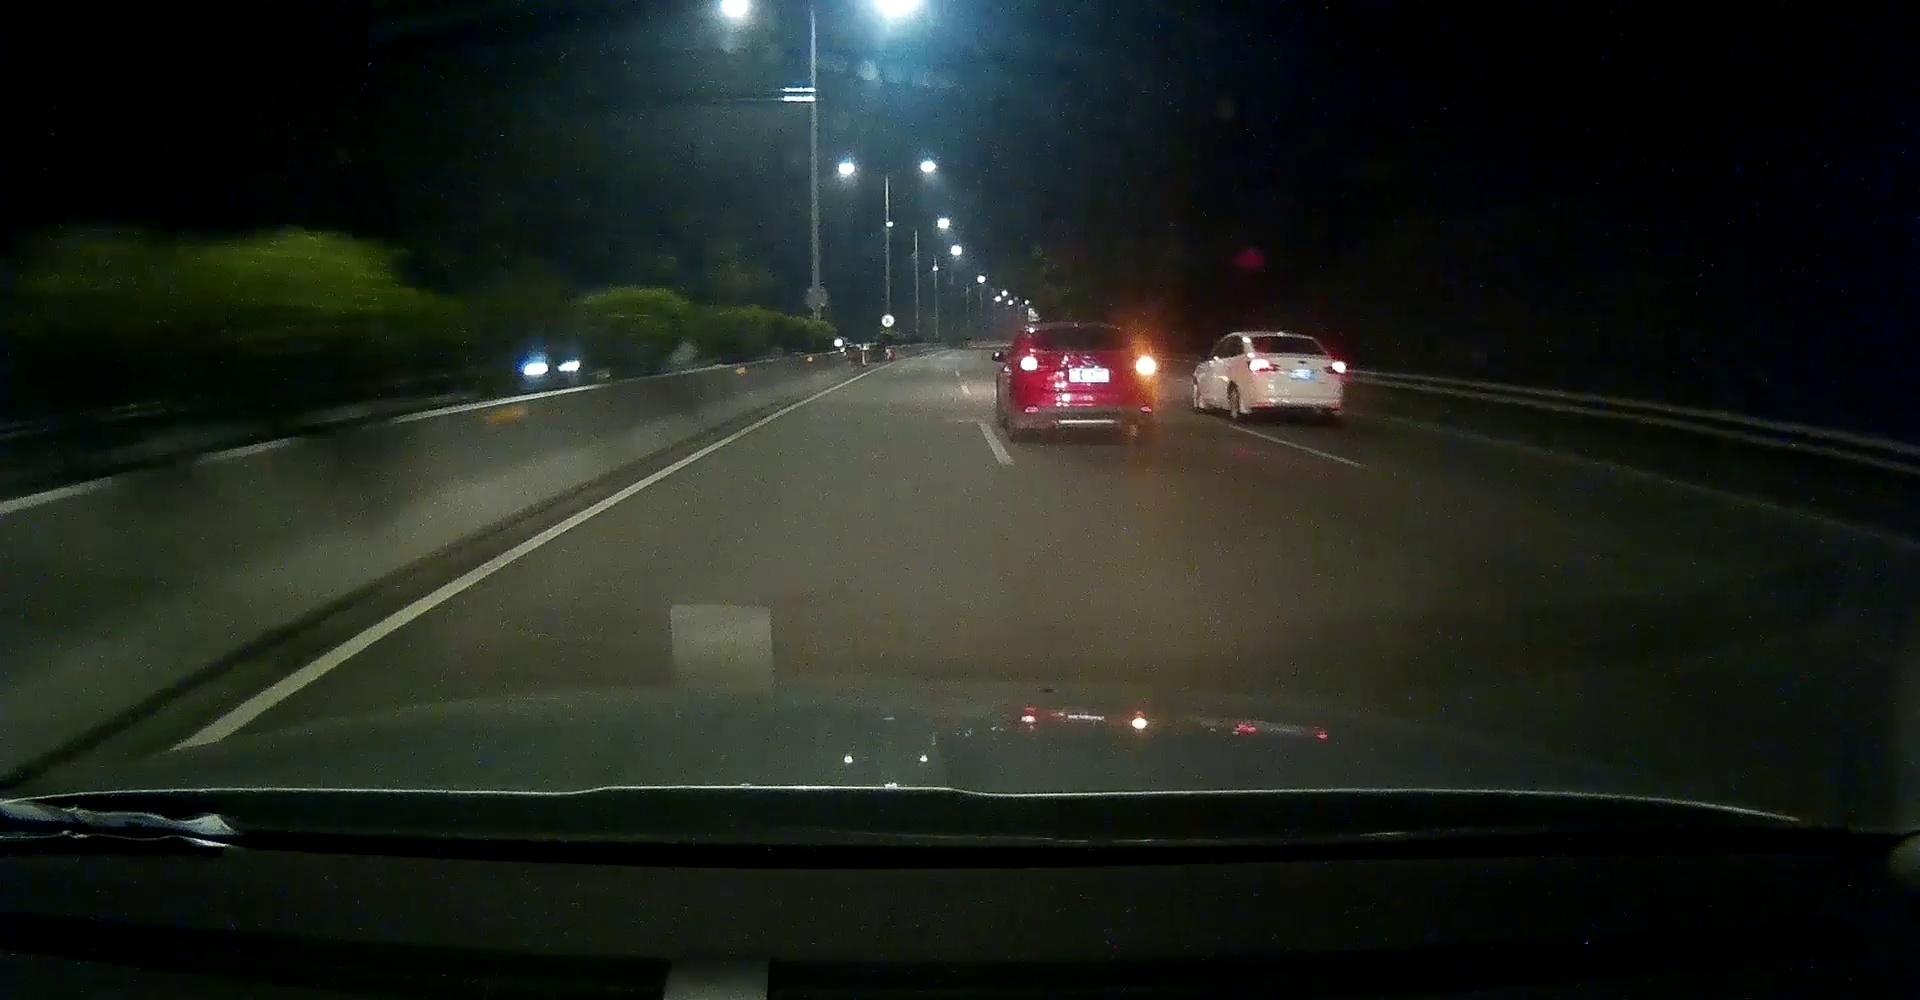L_light: (1247, 359, 1279, 372), (1018, 355, 1037, 372)
R_light: (1135, 355, 1154, 373), (1322, 360, 1346, 374)
T_light: (1069, 327, 1091, 332), (1277, 336, 1291, 339)
night-no: (1239, 332, 1347, 421)
night-right: (1010, 319, 1156, 443)
